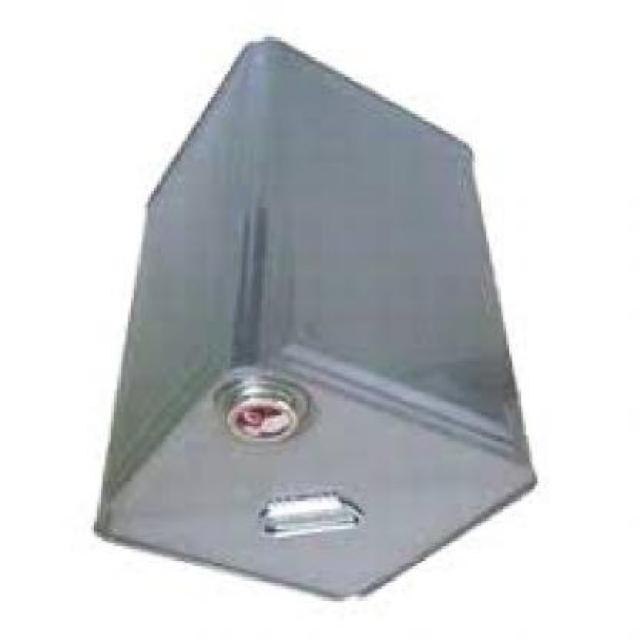metal: (97, 43, 540, 606)
